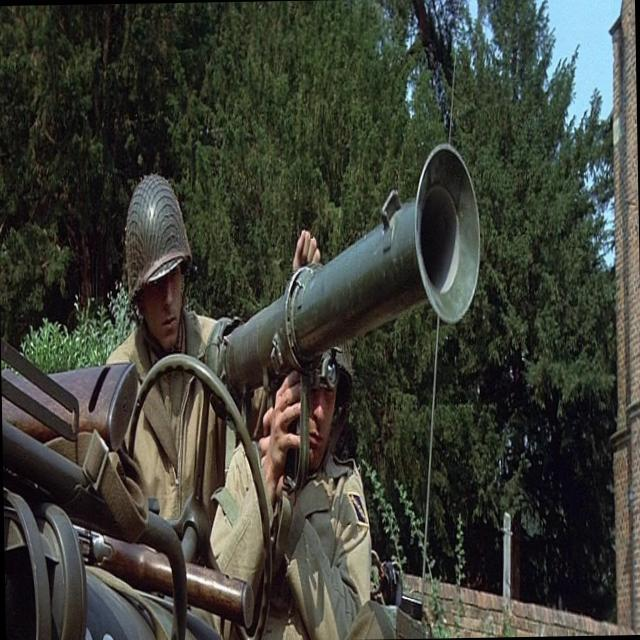rocket: (212, 141, 482, 404)
